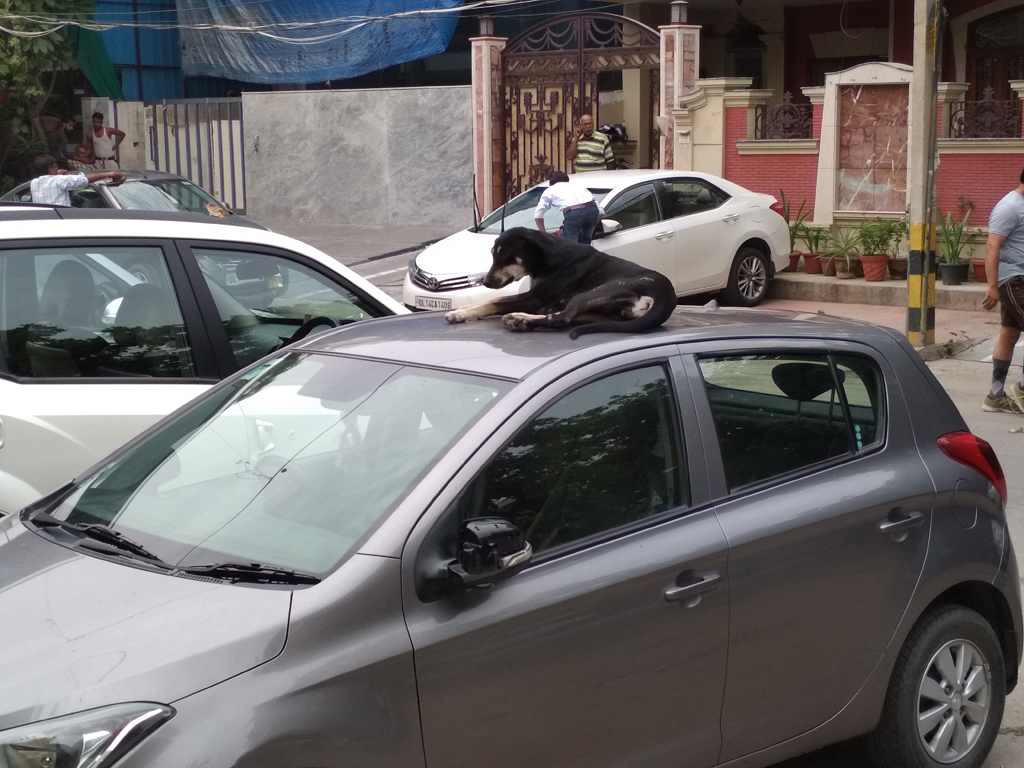dog: (443, 223, 679, 338)
